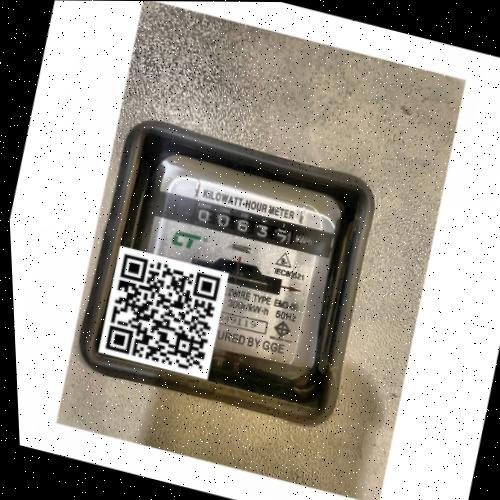qr_code: (95, 246, 233, 381)
